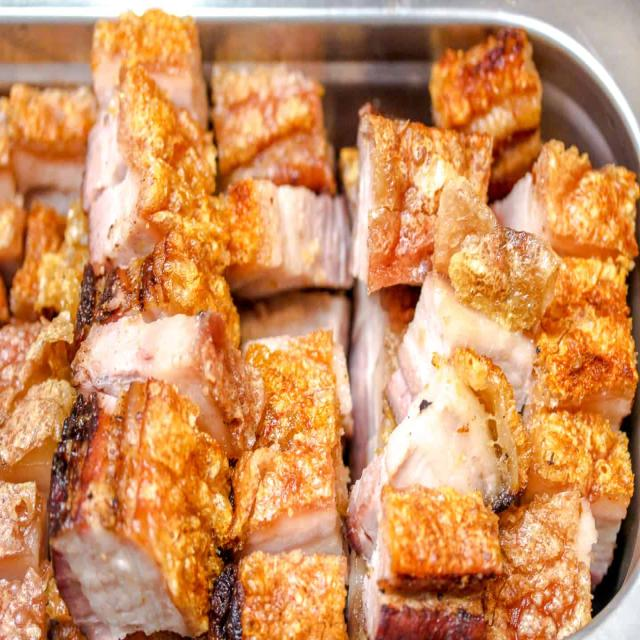thit chien: (50, 380, 233, 639), (224, 329, 348, 639), (399, 179, 561, 409), (348, 349, 525, 559), (74, 311, 263, 455), (84, 61, 215, 263), (356, 106, 492, 291), (76, 198, 240, 347), (524, 401, 634, 580), (491, 139, 640, 261), (534, 256, 638, 420), (483, 491, 596, 639), (226, 179, 351, 298), (373, 484, 504, 589), (103, 537, 114, 561)
